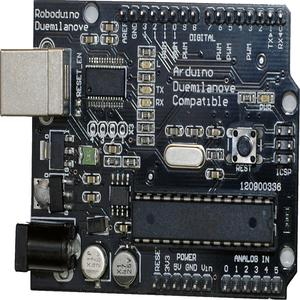duino: (9, 0, 300, 300)
